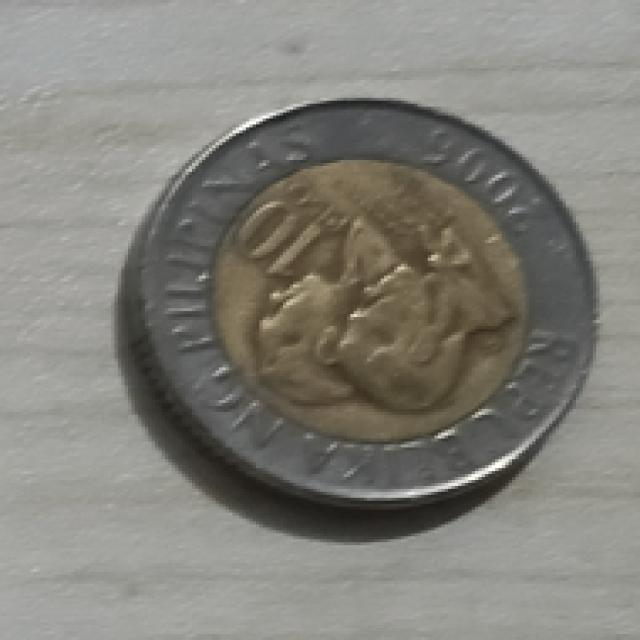10_peso: (131, 104, 593, 504)
